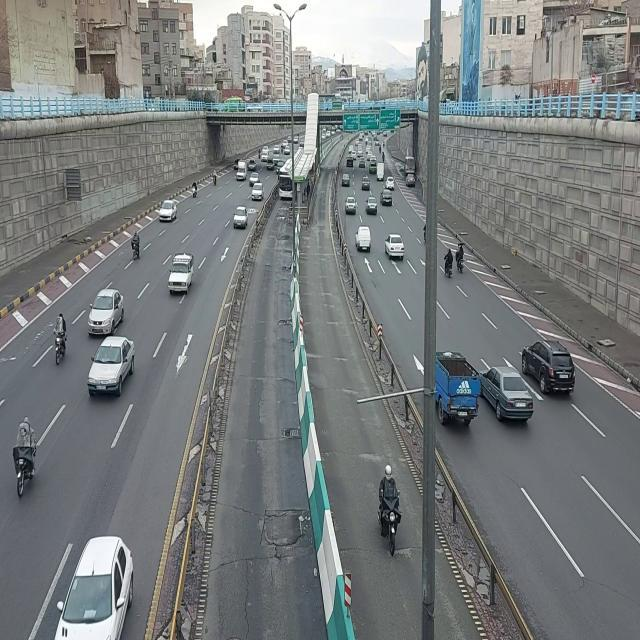Car: (481, 359, 536, 425), (523, 334, 579, 396), (87, 338, 138, 400), (86, 285, 126, 340), (384, 231, 406, 261), (158, 197, 179, 228), (233, 203, 249, 229), (344, 193, 359, 217), (380, 187, 395, 211), (249, 182, 265, 202), (367, 193, 379, 218)
Motorcycle: (377, 459, 403, 554), (13, 418, 37, 498), (53, 307, 69, 371), (131, 230, 143, 262), (455, 239, 467, 271), (445, 245, 454, 282), (189, 179, 199, 197)
Pickup: (435, 350, 481, 428), (168, 247, 199, 297), (355, 223, 373, 257), (235, 157, 249, 185)
